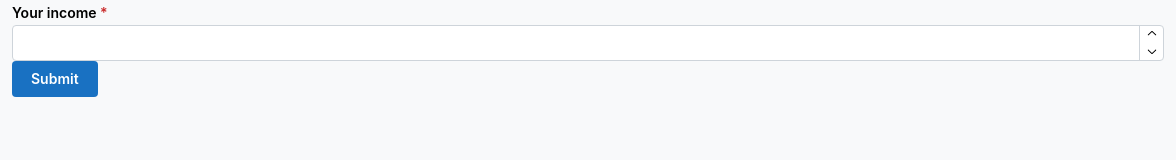
Test case: ControlledCurrencyInput › shows the amount as money while the user types it
This screenshot has width=1176, height=160.
Type "65000" into the field labelled "Your income *" at (588, 43), box [12,25,1164,61]
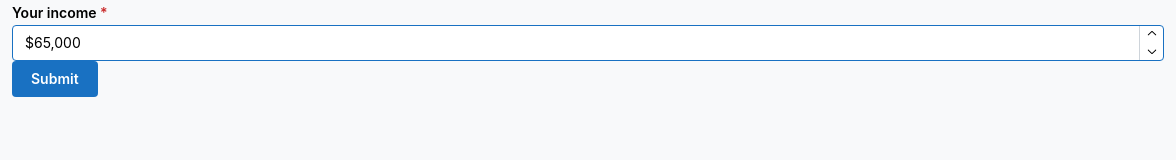
Check: the field labelled "Your income *" holds "$65,000", box [12,25,1164,61]
